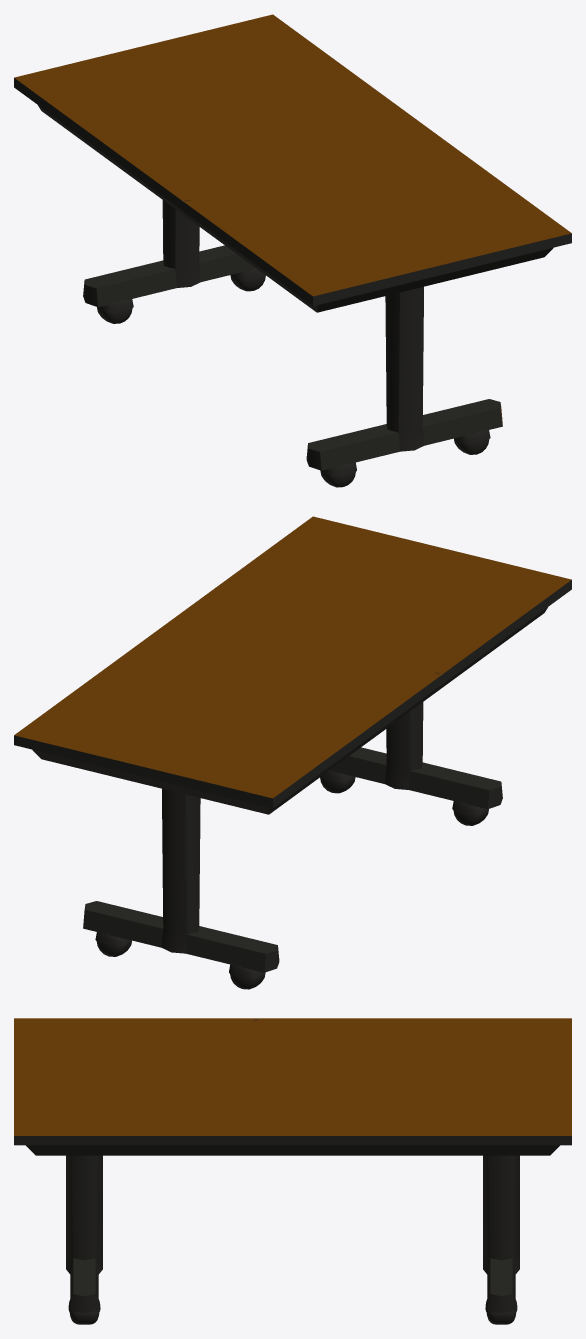
Rendered from Desk.fbx.
3 renders of one model, top to bottom at view 1: azimuth 30°, elevation 25°; view 2: azimuth 150°, elevation 25°; view 3: azimuth 270°, elevation 25°, orthographic. The views are drawn at different scales.
Parts seen in each view (by area): view 1: pCube1, pCube2, pCube3, pCube4; view 2: pCube1, pCube2, pCube3, pCube4; view 3: pCube1, pCube2, pCube3.
Boxes of the visible parts, box(x1,y1,x2,y2) form: pCube1: box(14, 14, 571, 312); pCube2: box(83, 200, 502, 470); pCube3: box(97, 275, 488, 487); pCube4: box(97, 267, 490, 476); pCube1: box(14, 516, 571, 814); pCube2: box(83, 702, 502, 972); pCube3: box(97, 777, 488, 989); pCube4: box(95, 769, 488, 978); pCube1: box(14, 1018, 571, 1155); pCube2: box(66, 1155, 519, 1312); pCube3: box(69, 1312, 516, 1324).
Bounding box in the file's own units: 85.5 × 72.92 × 171.
Materials: 1 (1 with a texture image).
